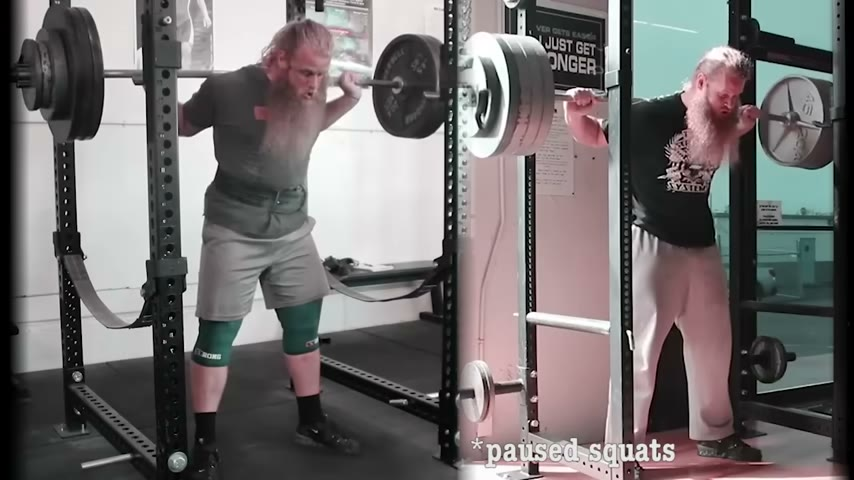barbell_plate_side: (1, 0, 112, 154)
